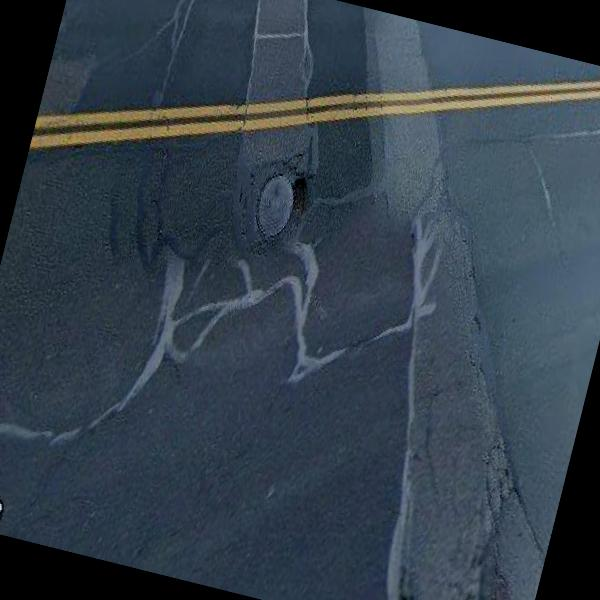manhole: (228, 137, 318, 266)
